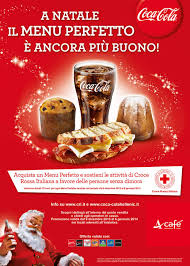coke: (65, 53, 134, 135)
